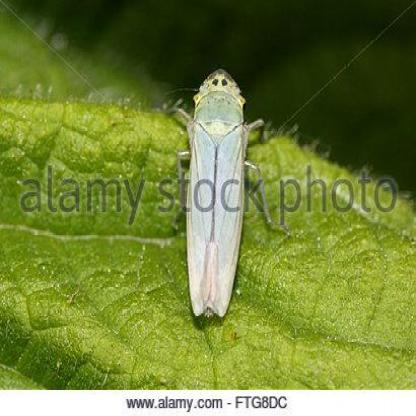Green-Leafhopper: (168, 61, 272, 327)
